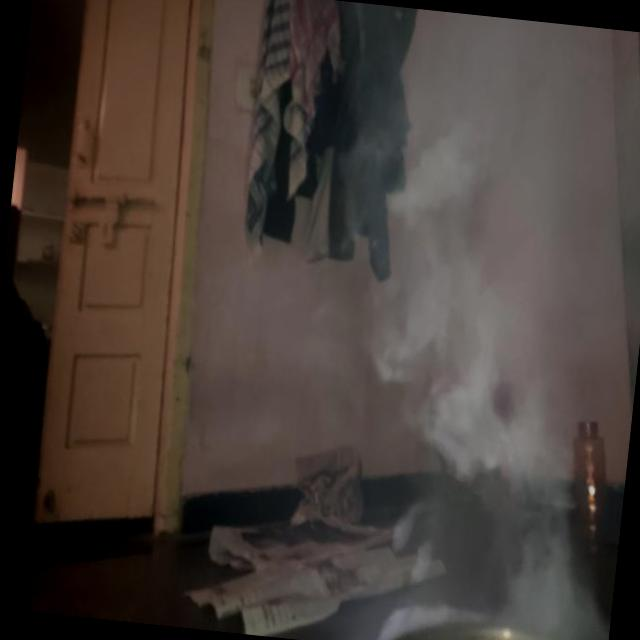smoke: (349, 214, 579, 572)
